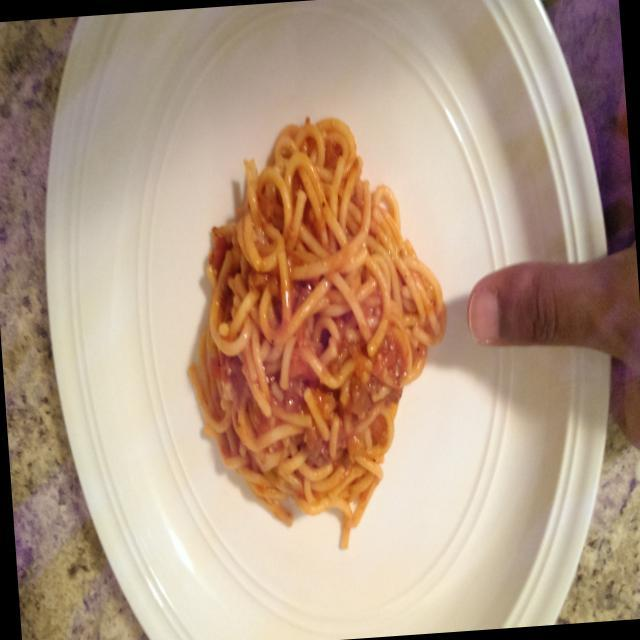Pasta: (174, 96, 454, 567)
